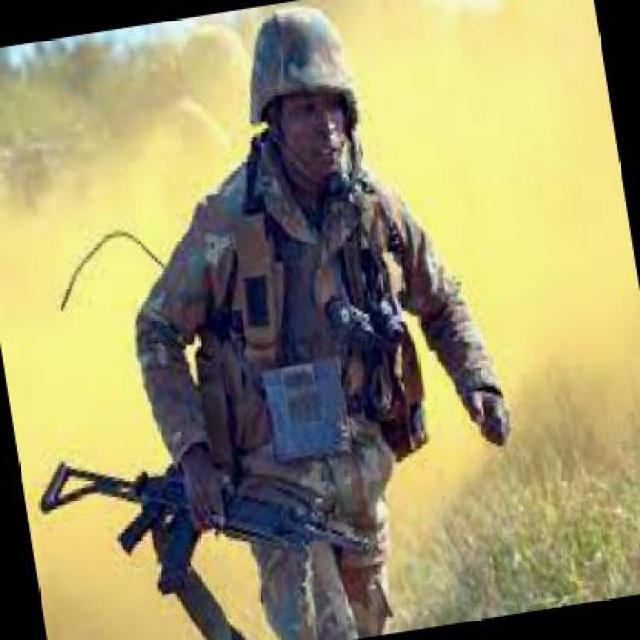MIL_Pax: (84, 0, 543, 638)
